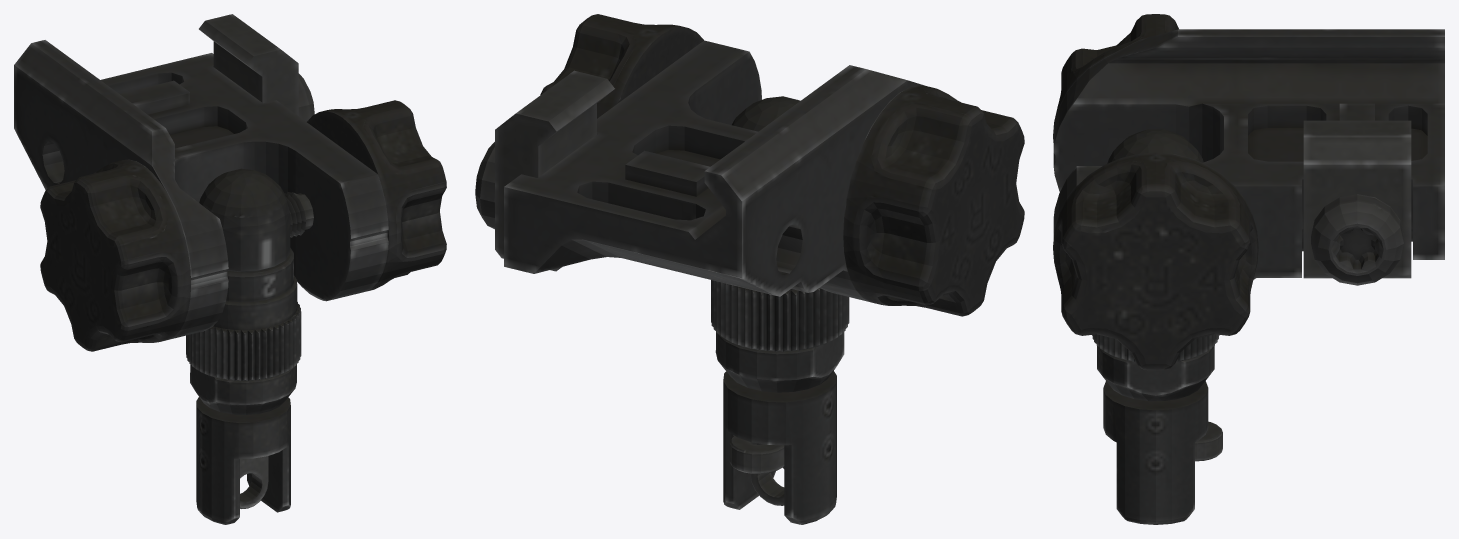
The picture shows the model from 3 angles, left to right: view 1: azimuth 30°, elevation 25°; view 2: azimuth 150°, elevation 25°; view 3: azimuth 270°, elevation 25°; orthographic projection. The views are drawn at different scales.
Visible parts, largest first — view 1: TW_61817865d3a39d50044c13a4_PZ_Import; view 2: TW_61817865d3a39d50044c13a4_PZ_Import; view 3: TW_61817865d3a39d50044c13a4_PZ_Import.
Part boxes in pixels (x1,y1,x2,y2): TW_61817865d3a39d50044c13a4_PZ_Import: (14,14,446,524); TW_61817865d3a39d50044c13a4_PZ_Import: (475,14,1024,524); TW_61817865d3a39d50044c13a4_PZ_Import: (1053,14,1444,524).
Bounding box in the file's own units: 0.0234 × 0.022 × 0.0267.
1 material, 1 textured.
